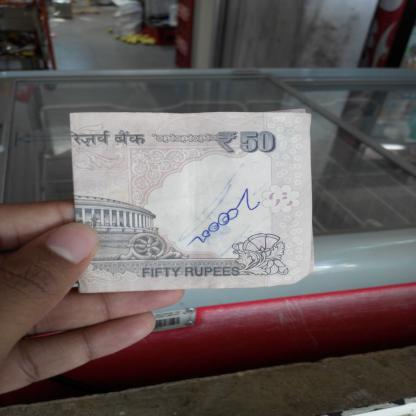Old50Back: (70, 108, 316, 293)
